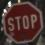Stop sign: (0, 0, 44, 44)
